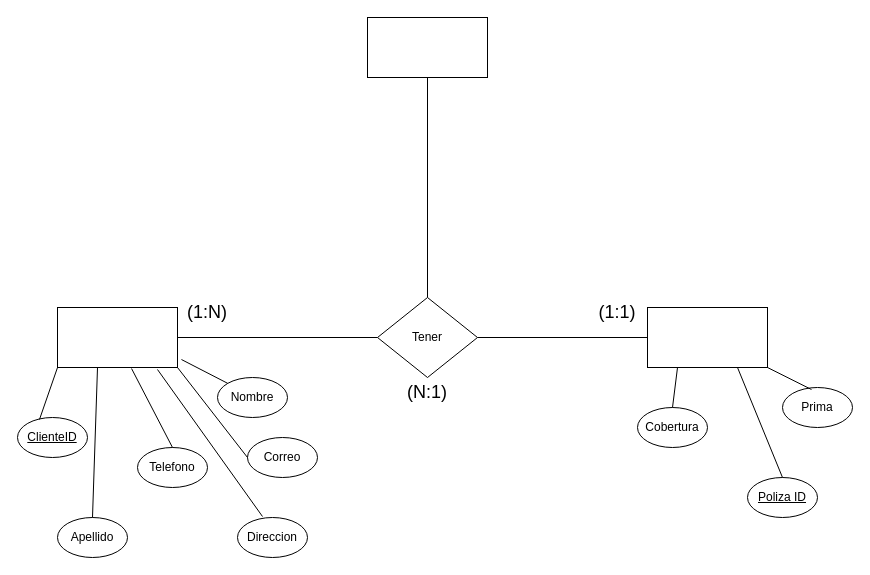
Image size: 870x575. Some labels were removed from this diagram. Each missing label, with the centre of its shape:
"Cliente" belongs at (x=117, y=337).
"Compañia de Seguros" belongs at (x=427, y=47).
"Poliza" belongs at (x=707, y=337).
